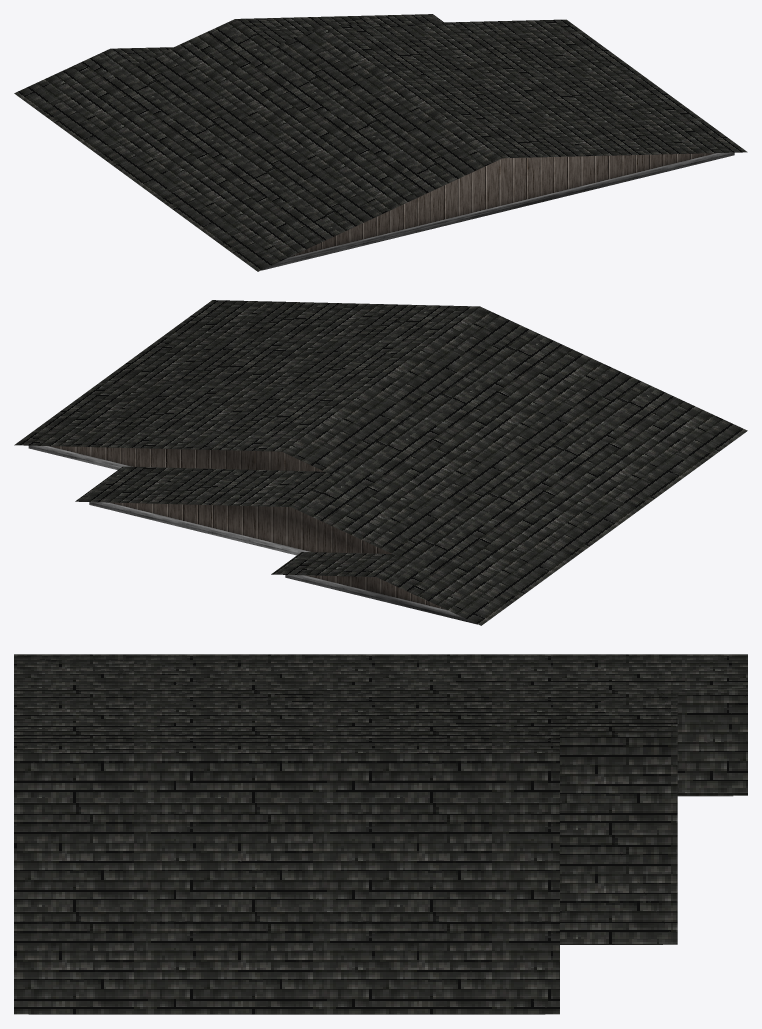
The model's file is Roof1.obj.
3 views of the same model, one above another, from view 1: azimuth 30°, elevation 25°; view 2: azimuth 150°, elevation 25°; view 3: azimuth 270°, elevation 25° (orthographic). The views are drawn at different scales.
Visible parts, largest first — view 1: base1, top1; view 2: base1, top1; view 3: base1, top1.
Part boxes in pixels (x1,y1,x2,y2): base1: [14, 14, 747, 271]; top1: [261, 152, 734, 270]; base1: [14, 300, 747, 625]; top1: [28, 445, 477, 624]; base1: [14, 654, 747, 1014]; top1: [29, 795, 732, 1014].
Size of the model in its own units: 580 by 66 by 500.
